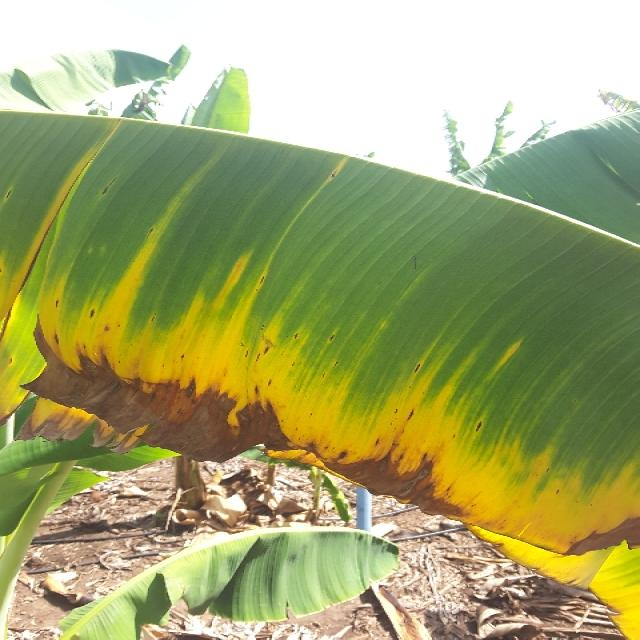Cordana: (0, 106, 640, 640)
